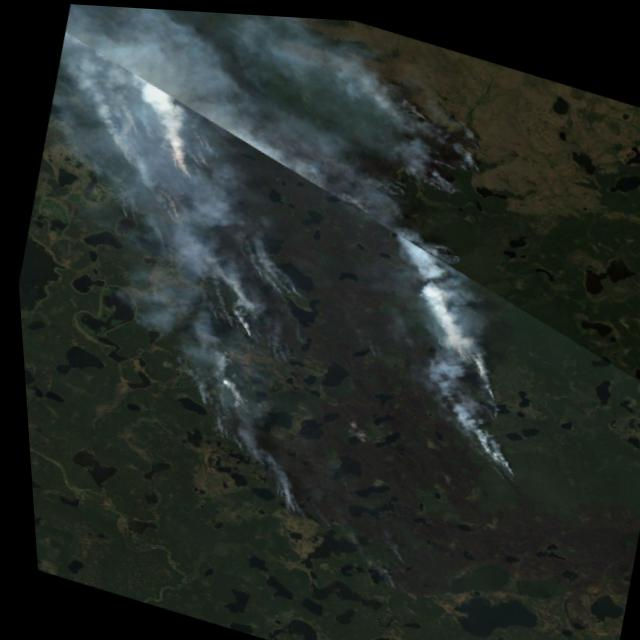fire: (311, 73, 607, 501), (46, 37, 361, 364), (170, 360, 270, 445), (237, 456, 320, 529)
